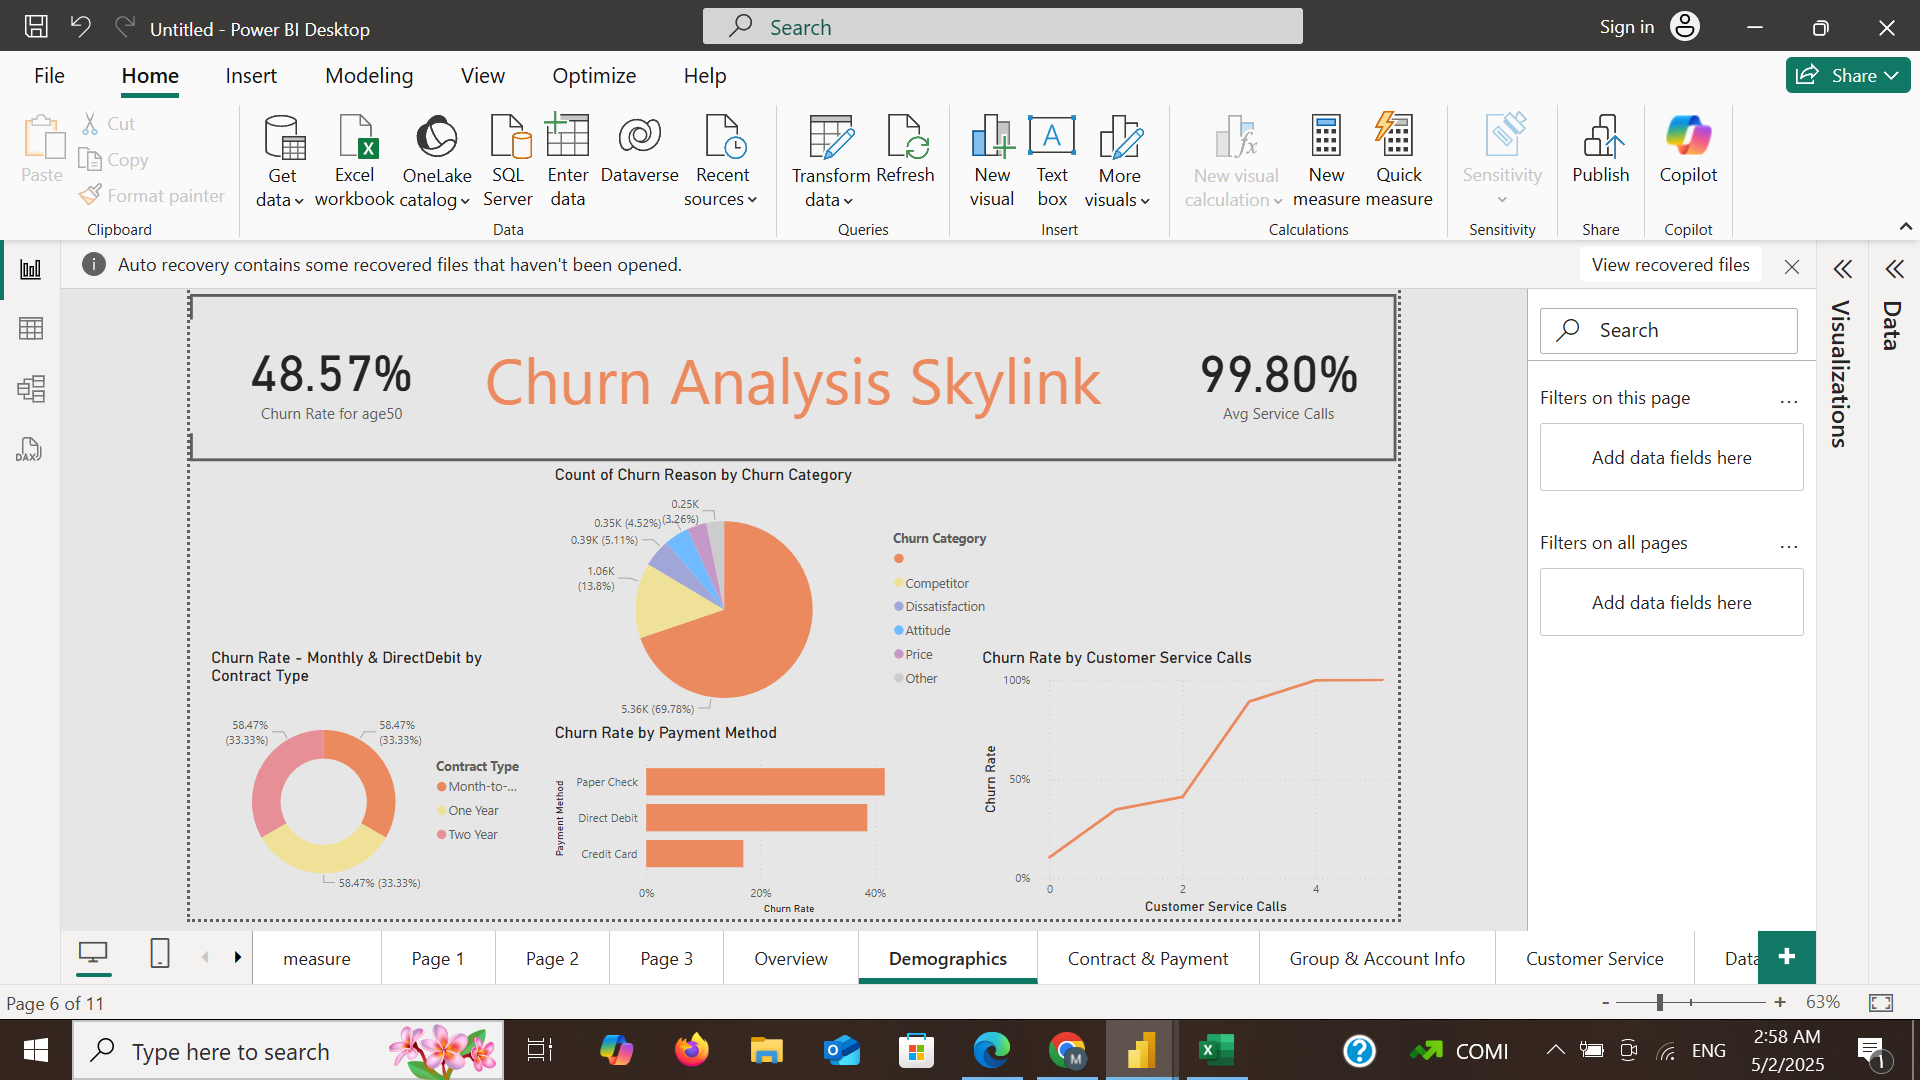

The page's visual inventory and layout, read from the dashboard file:
{"tool":"powerbi","page":{"name":"Demographics","canvas":[1280,720],"ordinal":5},"visuals":[{"type":"actionButton","box":[0,56.7,1279.4,177.6],"z":0},{"type":"donutChart","fields":{"Category":["SkyLink - Dataset.Contract Type"],"Y":["SkyLink - Dataset.Churn Rate - Monthly & DirectDebit"]},"box":[17,432.8,351.5,287.2],"z":1},{"type":"pieChart","fields":{"Category":["SkyLink - Dataset.Churn Category"],"Y":["CountNonNull(SkyLink - Dataset.Churn Reason)"]},"box":[381.7,238.1,483.8,287.2],"z":2},{"type":"lineChart","fields":{"Y":["SkyLink - Dataset.Churn Rate"],"Category":["SkyLink - Dataset.Customer Service Calls"]},"box":[835.3,432.8,444.1,287.2],"z":3},{"type":"card","fields":{"Values":["SkyLink - Dataset.Avg Service Calls"]},"box":[1058.3,71.8,192.8,147.4],"z":4},{"type":"card","fields":{"Values":["SkyLink - Dataset.Churn Rate for age50"]},"box":[0,85,300.5,120.9],"z":5},{"type":"clusteredBarChart","fields":{"Category":["SkyLink - Dataset.Payment Method"],"Y":["SkyLink - Dataset.Churn Rate"]},"box":[381.7,512.1,423.3,207.9],"z":6}]}

Visuals, with their boxes on the page's 1280x720 design canvas (x1, y1, x2, y2). These are canvas units, not pixel positions in the 1920x1080 screenshot, which may show the page scaled, cropped or inside an application window:
actionButton: region(0, 57, 1279, 234)
donutChart - SkyLink - Dataset.Contract Type x SkyLink - Dataset.Churn Rate - Monthly & DirectDebit: region(17, 433, 368, 720)
pieChart - SkyLink - Dataset.Churn Category x CountNonNull(SkyLink - Dataset.Churn Reason): region(382, 238, 866, 525)
lineChart - SkyLink - Dataset.Churn Rate x SkyLink - Dataset.Customer Service Calls: region(835, 433, 1279, 720)
card - SkyLink - Dataset.Avg Service Calls: region(1058, 72, 1251, 219)
card - SkyLink - Dataset.Churn Rate for age50: region(0, 85, 300, 206)
clusteredBarChart - SkyLink - Dataset.Payment Method x SkyLink - Dataset.Churn Rate: region(382, 512, 805, 720)
